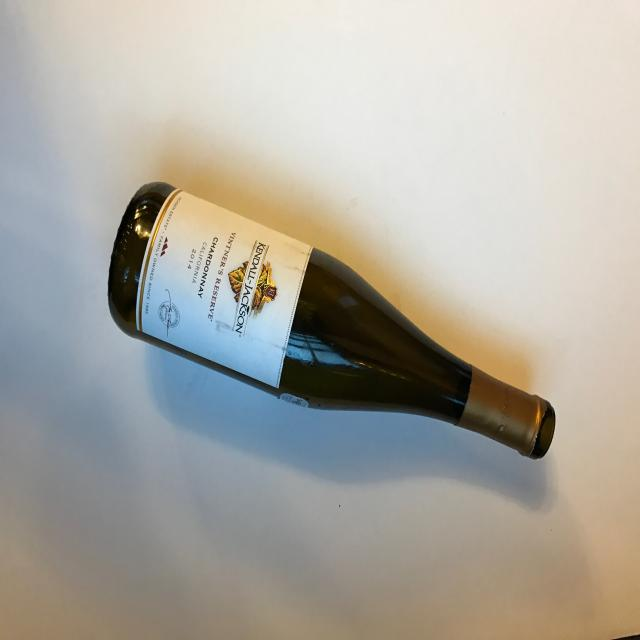glass: (107, 180, 556, 461)
